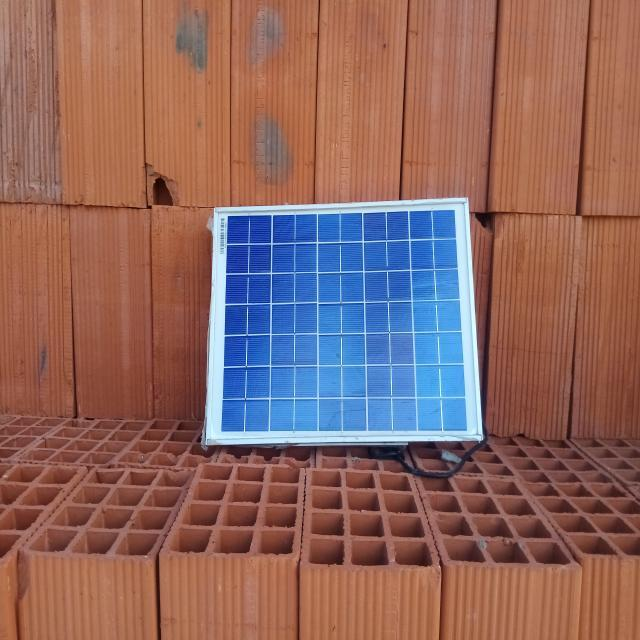no faulty: (205, 197, 482, 449)
